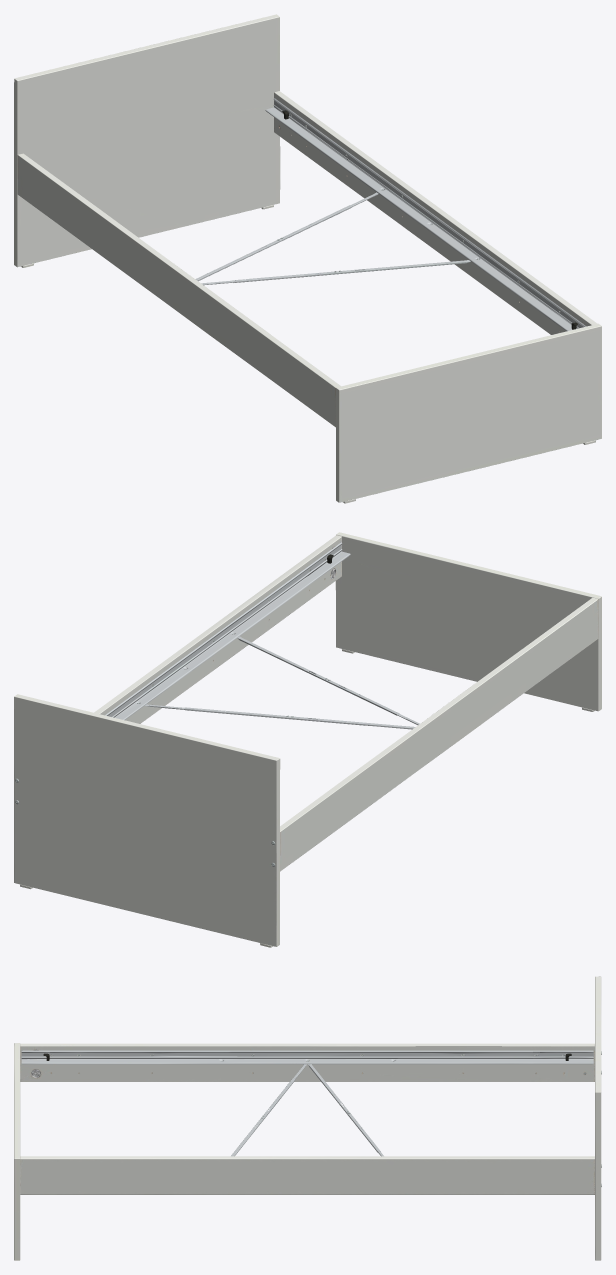
Rendered from vihals_rama_ozka_40602424.glb.
The picture shows the model from 3 angles, top to bottom: view 1: azimuth 30°, elevation 25°; view 2: azimuth 150°, elevation 25°; view 3: azimuth 270°, elevation 25°; orthographic projection. The views are drawn at different scales.
Parts seen in each view (by area): view 1: vihals_rama_ozka_40602424; view 2: vihals_rama_ozka_40602424; view 3: vihals_rama_ozka_40602424.
Part boxes in pixels (x1=…): vihals_rama_ozka_40602424: x1=14, y1=14, x2=601, y2=503; vihals_rama_ozka_40602424: x1=14, y1=532, x2=601, y2=947; vihals_rama_ozka_40602424: x1=14, y1=976, x2=601, y2=1260.
Size of the model in its own units: 0.959 by 0.658 by 2.06.
1 material, 1 textured.
